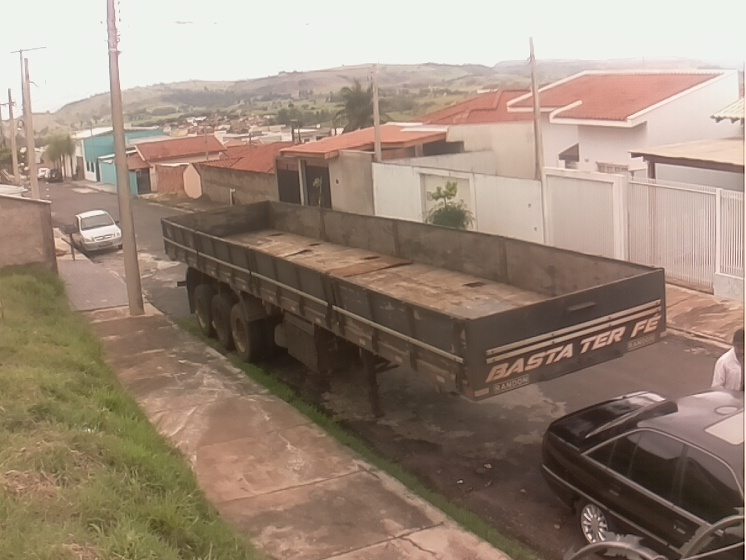person: (709, 326, 746, 394)
